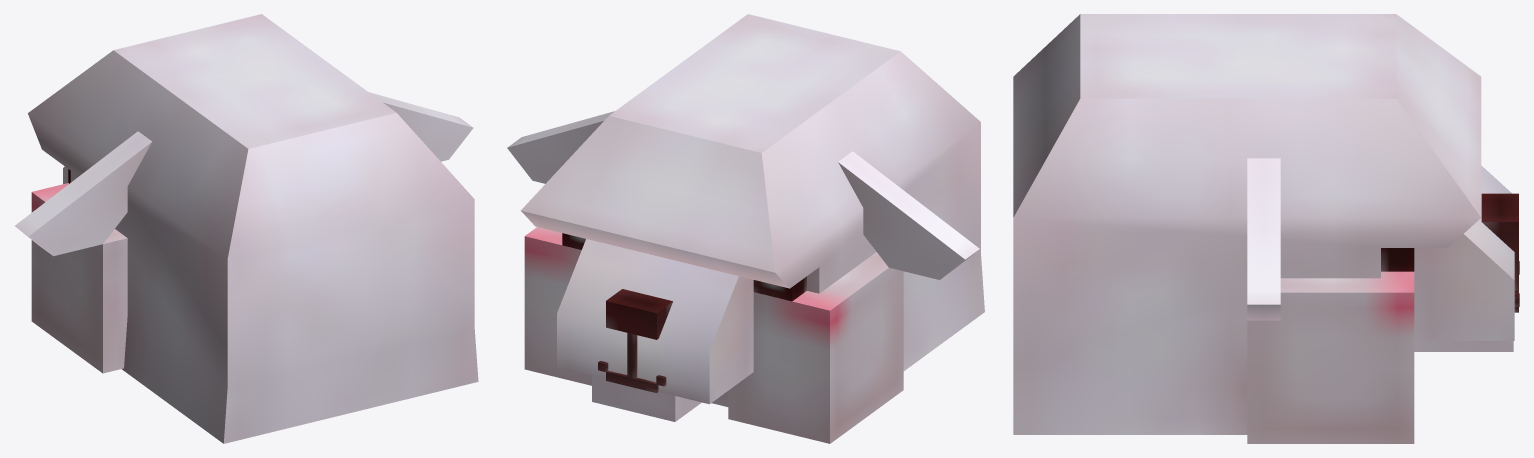
File: alpaca_head.glb
3 renders of one model, left to right at view 1: azimuth 30°, elevation 25°; view 2: azimuth 150°, elevation 25°; view 3: azimuth 270°, elevation 25°, orthographic. The views are drawn at different scales.
Visible parts, largest first — view 1: alpaca_head; view 2: alpaca_head; view 3: alpaca_head.
Part boxes in pixels (x1,y1,x2,y2): alpaca_head: (15,14,478,443); alpaca_head: (507,14,984,443); alpaca_head: (1013,14,1519,443).
Bounding box in the file's own units: 6.98 × 3.91 × 5.87.
1 material, 1 textured.
